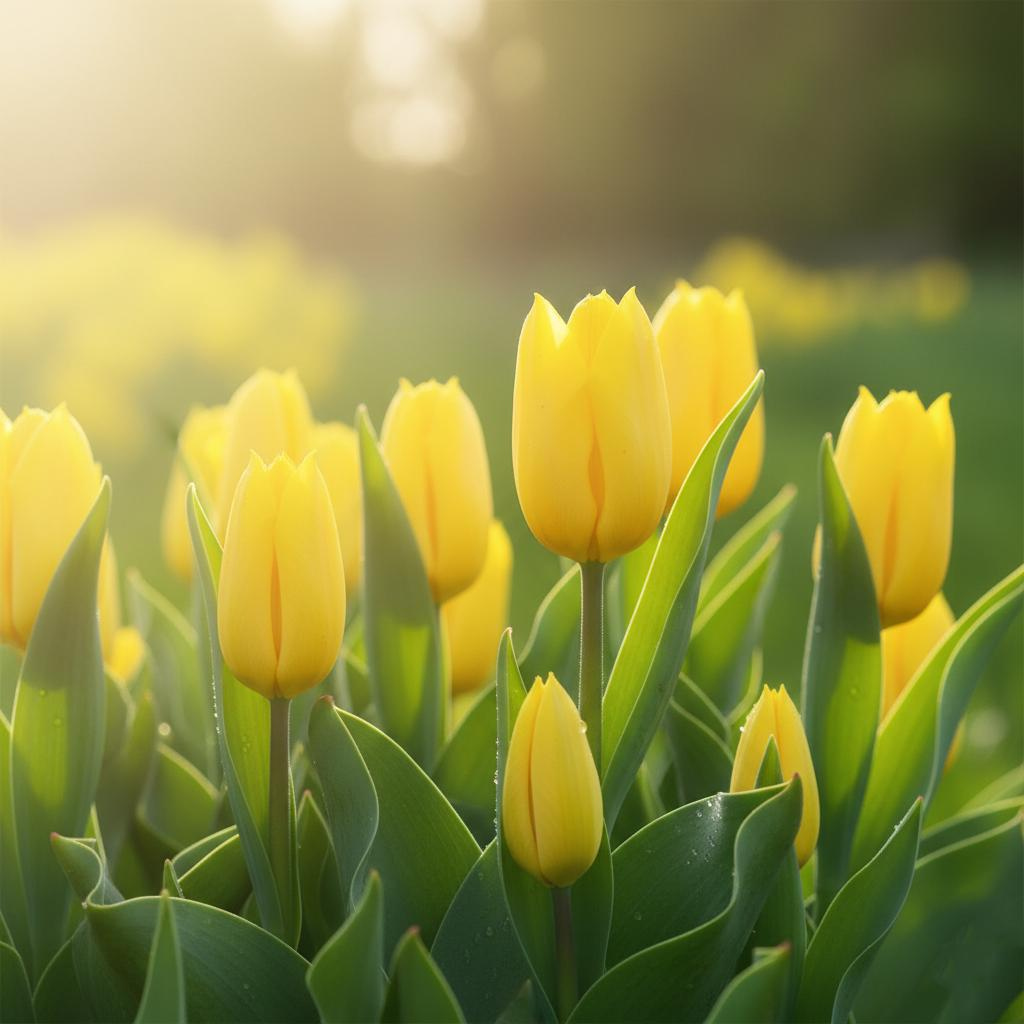tulip: (510, 284, 673, 564), (214, 447, 347, 701), (650, 278, 765, 520), (499, 670, 605, 889)
